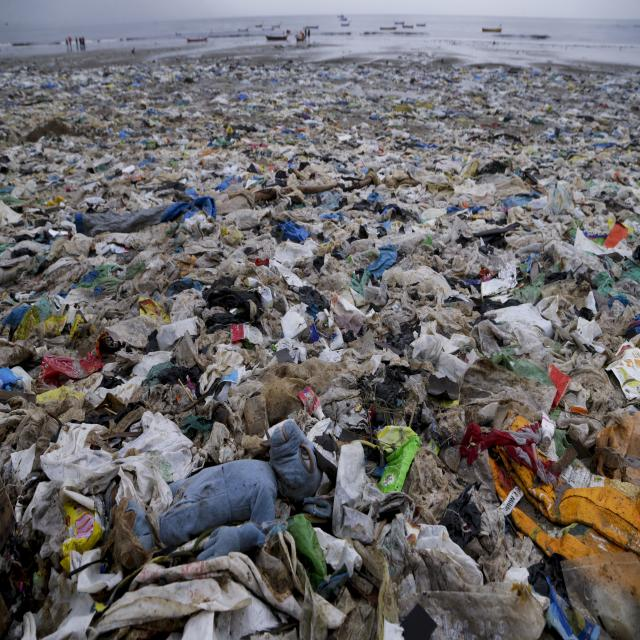garbage: (1, 52, 639, 639)
